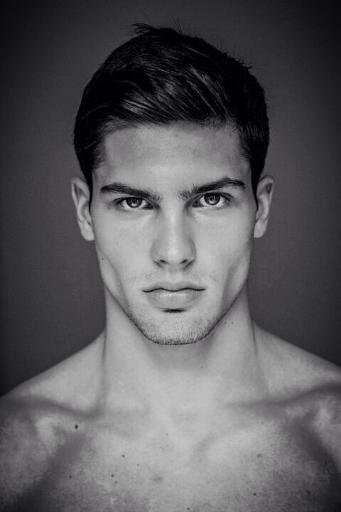left_eye: (188, 191, 235, 211)
left_lip_corner: (194, 283, 213, 301)
right_eye: (110, 195, 157, 216)
right_lip_corner: (138, 284, 156, 303)
